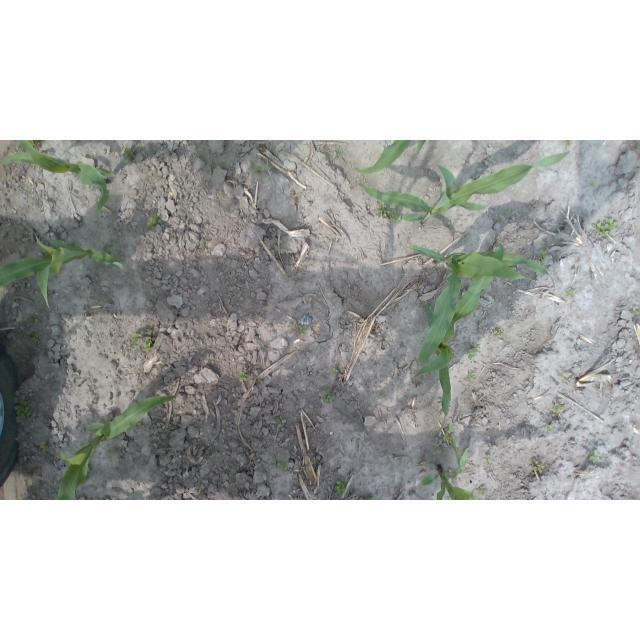Maize: (412, 245, 507, 432), (358, 152, 571, 225), (56, 393, 178, 500), (0, 233, 126, 312), (4, 141, 117, 217), (409, 244, 556, 288), (419, 447, 478, 500), (354, 141, 429, 175)
Weeds: (16, 429, 47, 461), (26, 315, 43, 347), (130, 333, 153, 352), (598, 217, 619, 235), (375, 204, 396, 220), (13, 406, 31, 419), (466, 343, 480, 359), (273, 459, 289, 473), (335, 479, 346, 497), (147, 214, 160, 227), (123, 150, 137, 162), (590, 451, 601, 465), (554, 404, 565, 416), (256, 166, 264, 180), (493, 327, 503, 338), (106, 450, 118, 459), (294, 326, 307, 334), (566, 289, 576, 298), (535, 464, 544, 473), (539, 252, 546, 263), (468, 371, 477, 379), (324, 395, 334, 402), (239, 372, 245, 381), (558, 371, 565, 378), (200, 240, 206, 247), (631, 310, 637, 317), (506, 211, 513, 217), (527, 204, 533, 210), (637, 142, 640, 151), (275, 417, 280, 421)
